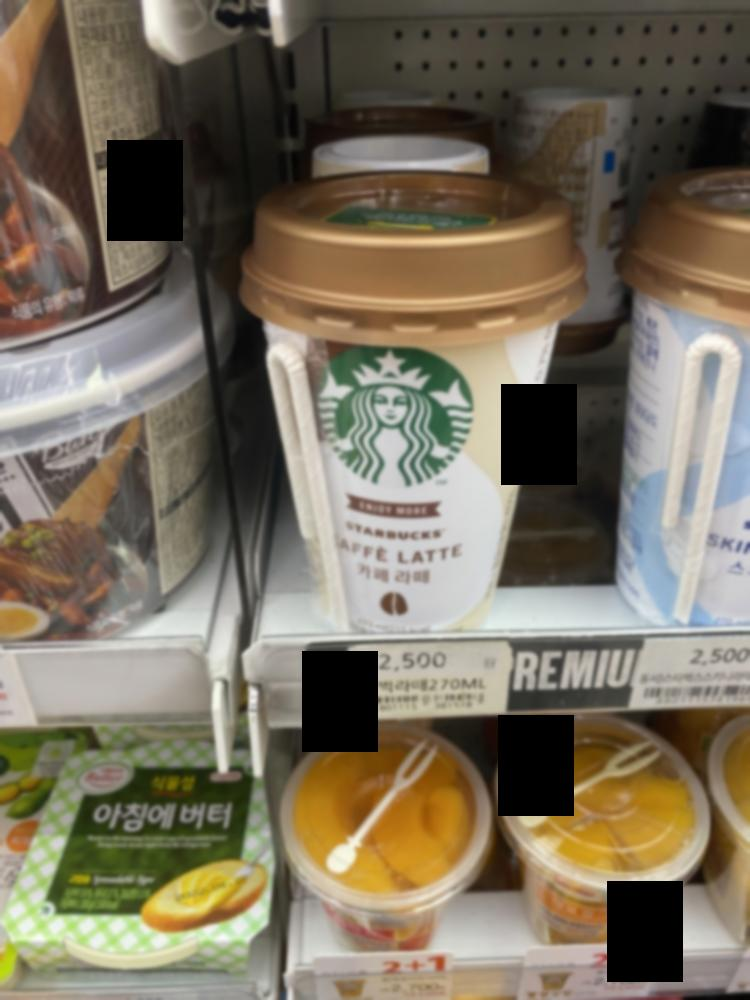starbucks_cafelatte: (226, 190, 585, 633)
